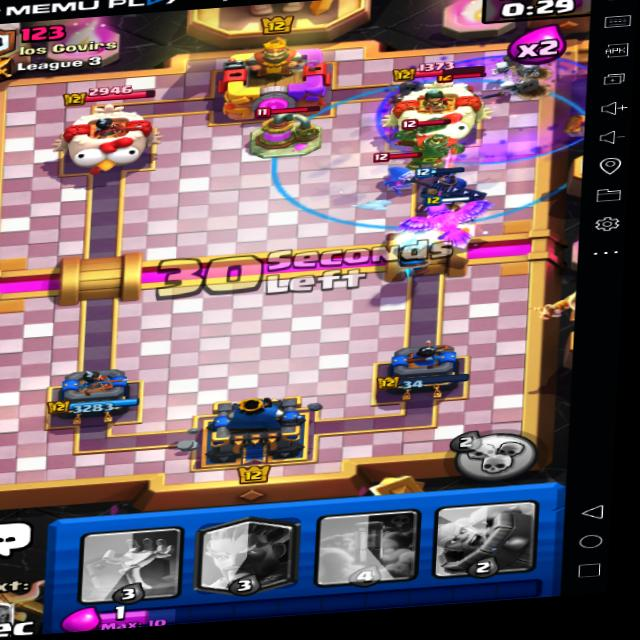bandit: (351, 155, 429, 208)
elixir-collector: (224, 100, 324, 164)
magic-archer: (445, 71, 478, 117)
skeleton-king: (405, 123, 476, 180)
